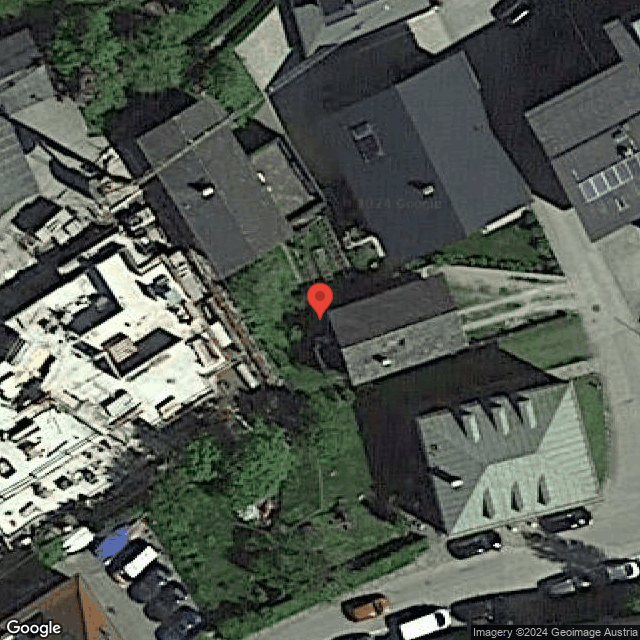dormer: (510, 475, 532, 512), (537, 469, 558, 507), (515, 399, 539, 431), (488, 406, 511, 438), (483, 486, 503, 520), (460, 415, 480, 445)
obstacles: (420, 186, 436, 199), (200, 186, 213, 200), (449, 479, 464, 488), (379, 359, 393, 368)
panels: (577, 149, 640, 202)
roof: (323, 53, 534, 264), (416, 381, 600, 538), (138, 97, 294, 280), (524, 9, 640, 245), (328, 272, 468, 384)
